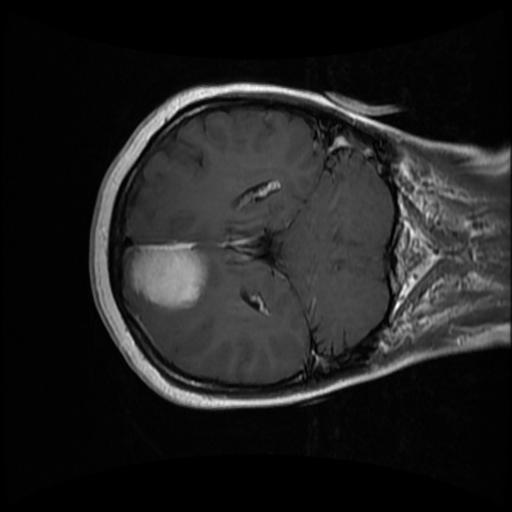meningioma: (128, 243, 208, 310)
